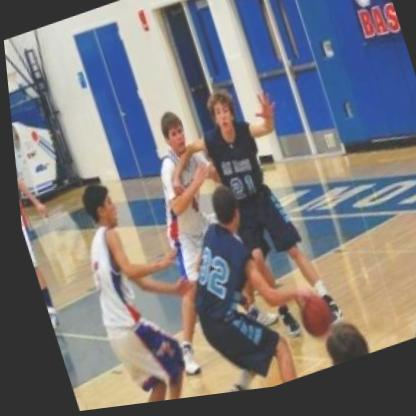basketball: (279, 289, 334, 352)
